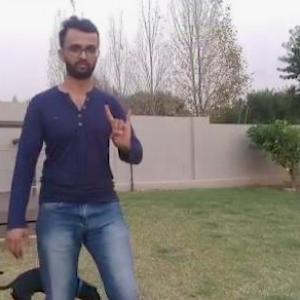takeoff-hand: (102, 96, 138, 154)
